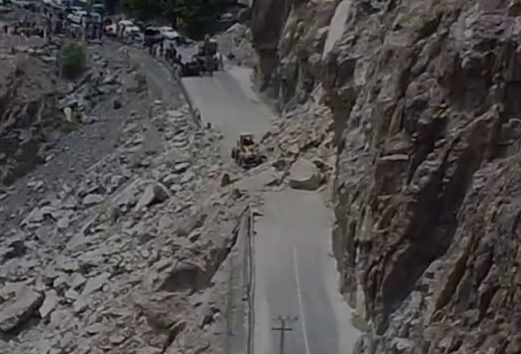unexpected: (230, 128, 388, 262)
